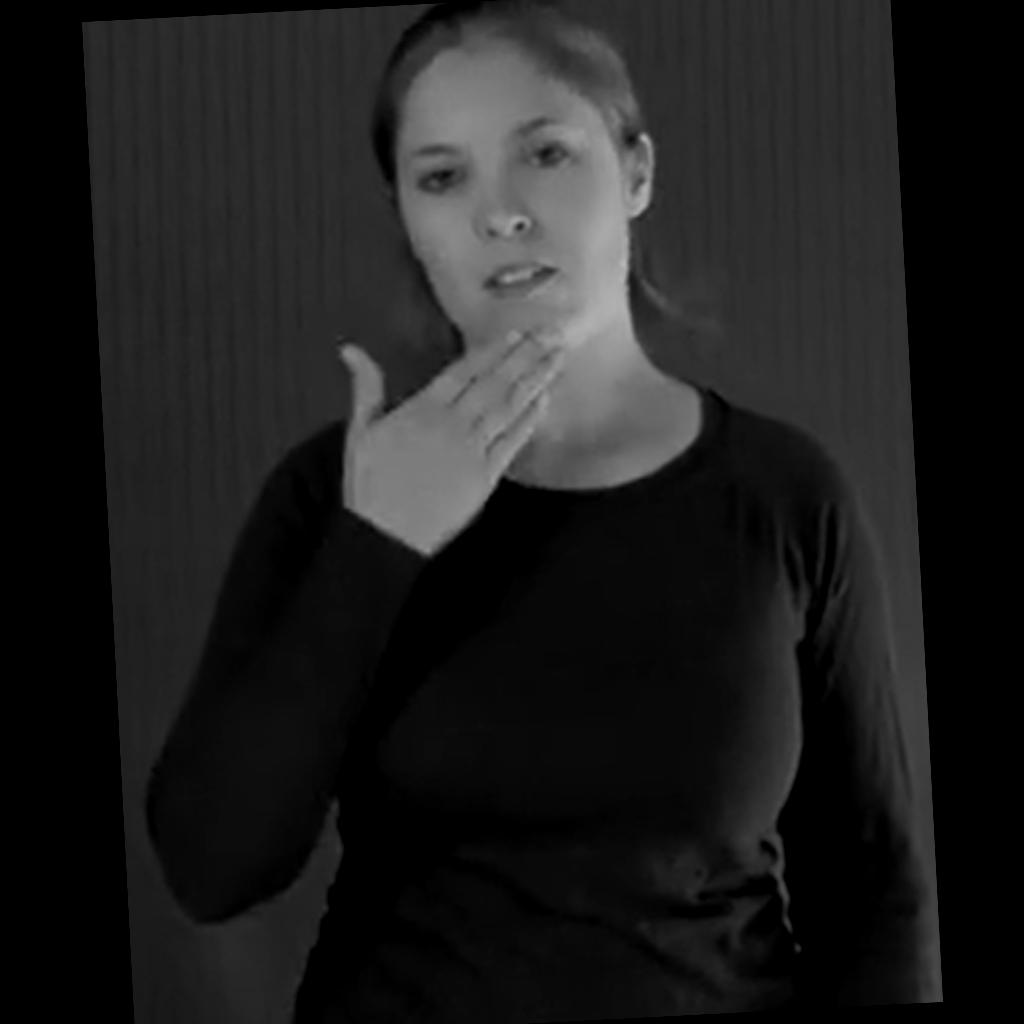thank-you: (335, 321, 570, 535)
